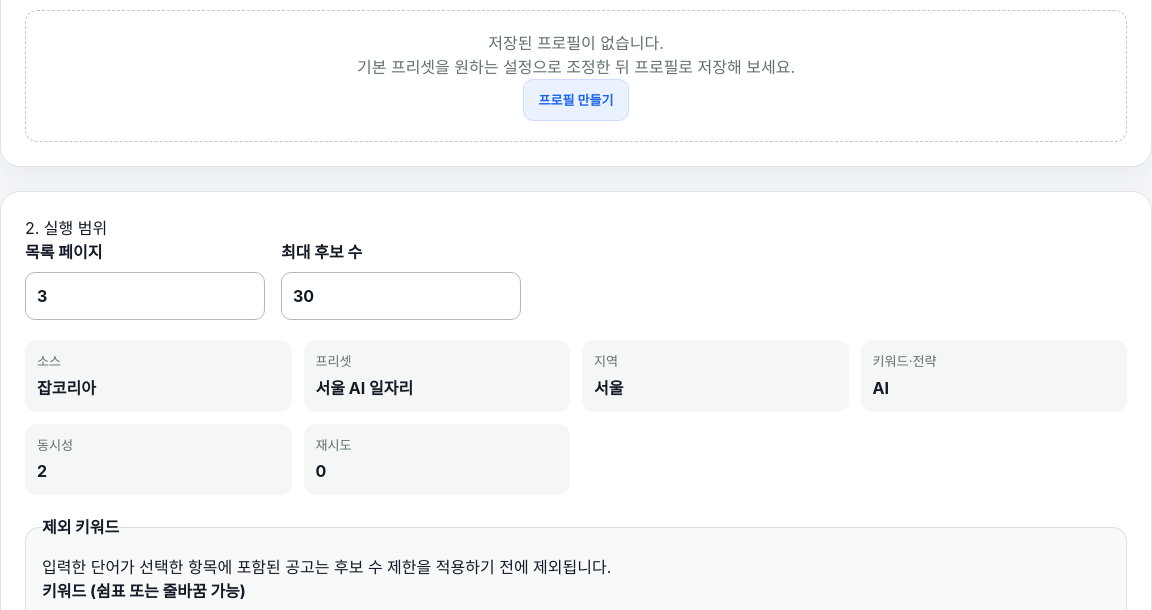
Scenario: CollectionControl › rejects invalid controls client-side and exposes accessible progress
The width and height of the screenshot is (1152, 610).
(page scrolled)
Replace the text in the number field labelled "목록 페이지" with "9": point(145, 296) x1=25 y1=272 x2=265 y2=320
(page scrolled)
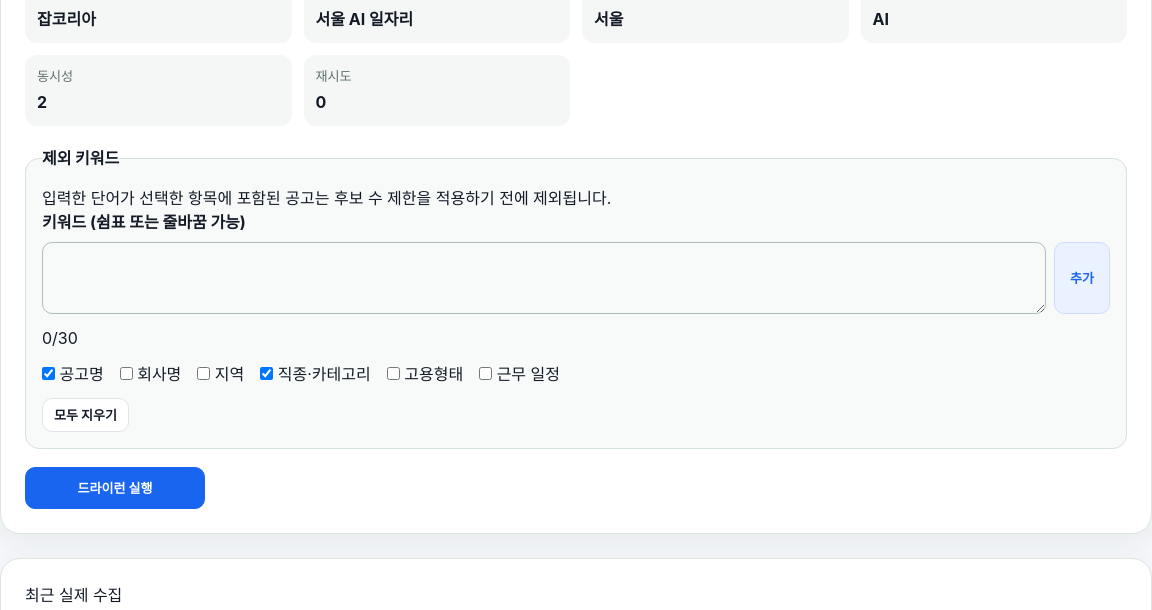
Expected: the button "드라이런 실행" is disabled, x1=25 y1=468 x2=205 y2=510
